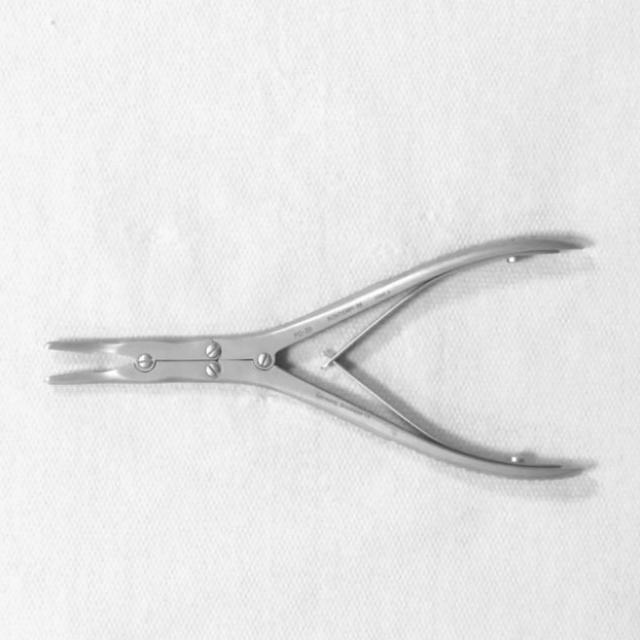gubia: (47, 233, 599, 483)
